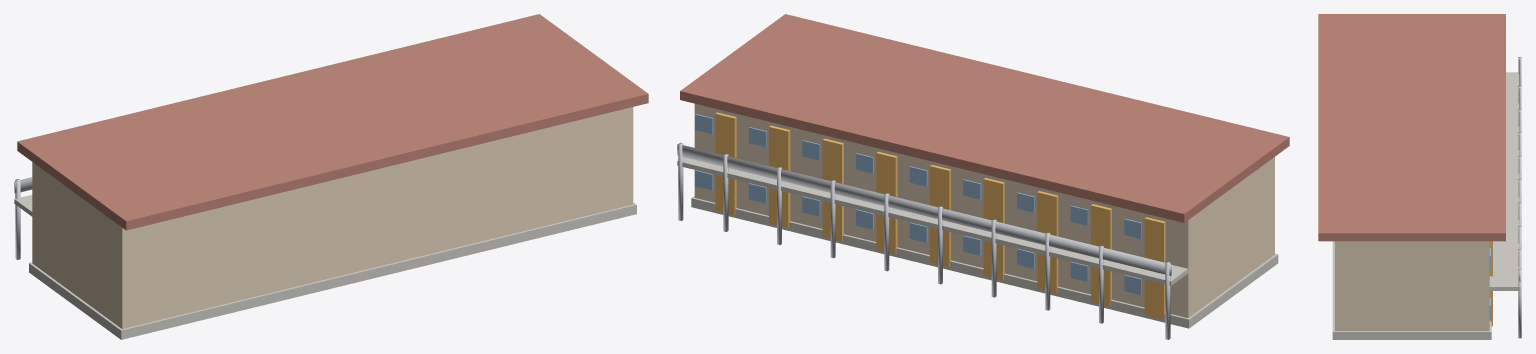
File: B_motel.fbx
3 renders of one model, left to right at view 1: azimuth 30°, elevation 25°; view 2: azimuth 150°, elevation 25°; view 3: azimuth 270°, elevation 25°, orthographic. The views are drawn at different scales.
Parts seen in each view (by area): view 1: Roof.003, Wall.008, Concrete.010, Metal.007; view 2: Roof.003, Wall.008, Trim.008, Concrete.010, Metal.007, Glass.009; view 3: Roof.003, Wall.008, Concrete.010, Metal.007, Trim.008.
Boxes of the visible parts, x1,y1,x2,y2 form: Roof.003: (17, 14, 648, 230); Wall.008: (32, 107, 633, 328); Concrete.010: (14, 195, 636, 339); Metal.007: (14, 177, 32, 259); Roof.003: (680, 14, 1289, 222); Wall.008: (694, 103, 1274, 317); Trim.008: (715, 112, 1165, 319); Concrete.010: (677, 157, 1278, 328); Metal.007: (677, 142, 1171, 339); Glass.009: (695, 114, 1141, 294); Roof.003: (1318, 14, 1505, 241); Wall.008: (1335, 241, 1489, 330); Concrete.010: (1332, 72, 1520, 339); Metal.007: (1518, 57, 1521, 338); Trim.008: (1489, 241, 1492, 326).
Bounding box in the file's own units: 47 × 10.8 × 18.4.
